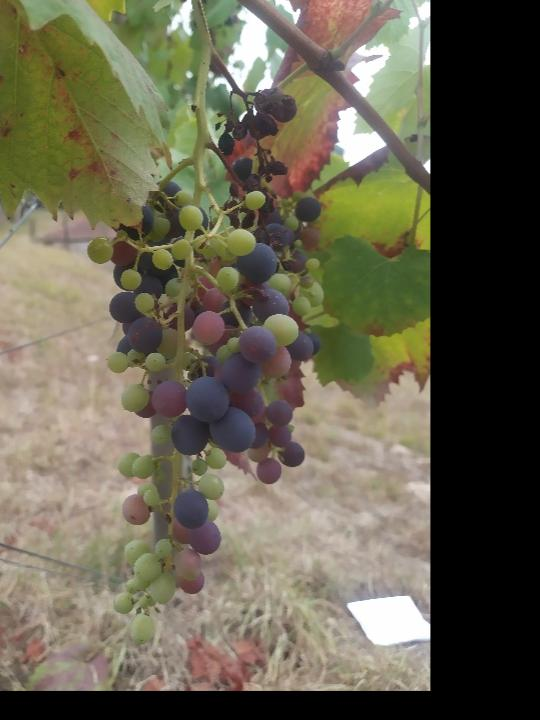grape: (85, 179, 324, 650), (211, 89, 300, 229)
